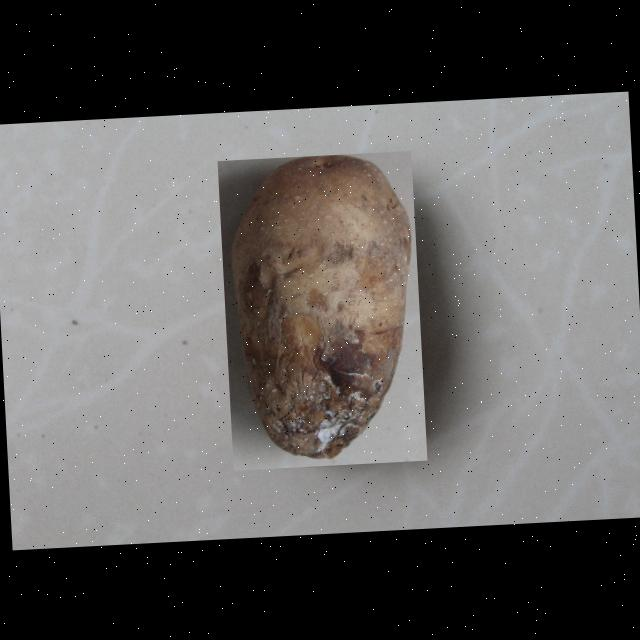Diseased-fungal potato: (216, 150, 426, 470)
